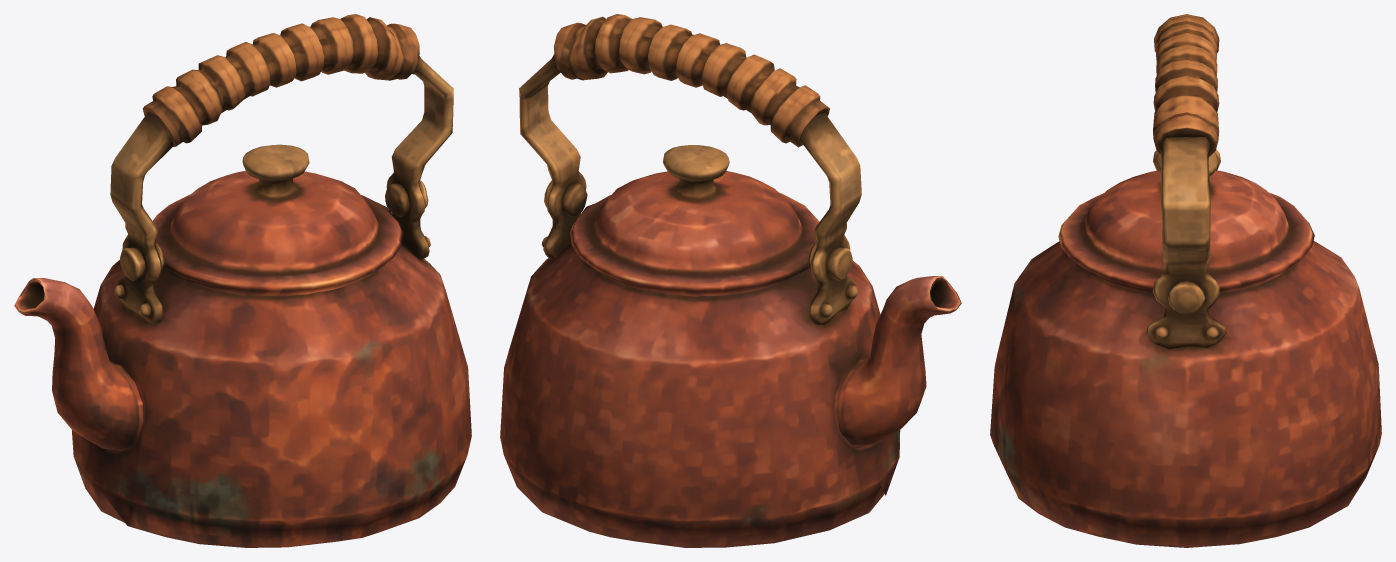
The model's file is kettle_parts.glb.
3 views of the same model, side by side, from view 1: azimuth 30°, elevation 25°; view 2: azimuth 150°, elevation 25°; view 3: azimuth 270°, elevation 25° (orthographic).
Visible parts, largest first — view 1: Body, Lid; view 2: Body, Lid; view 3: Body, Lid.
Part boxes in pixels (x1,y1,x2,y2): Body: (14, 14, 471, 547); Lid: (169, 144, 377, 273); Body: (500, 14, 961, 547); Lid: (593, 145, 803, 273); Body: (990, 14, 1381, 547); Lid: (1085, 153, 1289, 270).
Size of the model in its own units: 1 by 0.9801 by 0.8001.
1 material, 1 textured.
